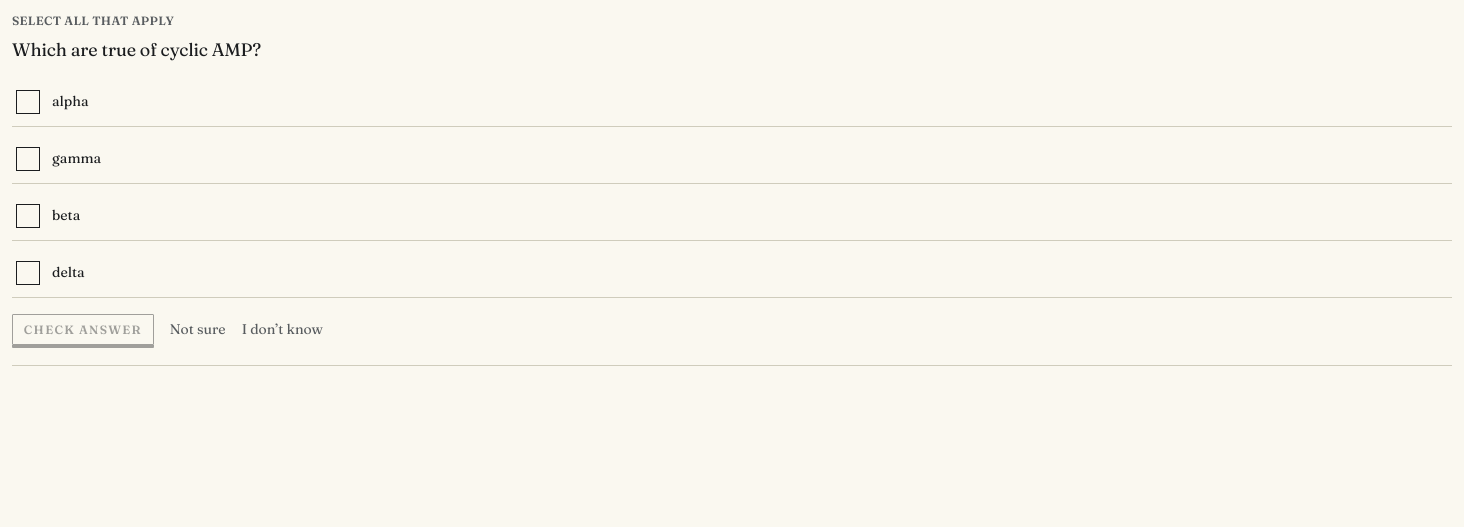
Scenario: MultiCard › counts a true statement left out as a miss, and marks it Also true with its reason
Click the checkbox "alpha". click: coordinates (70, 101)
box: [12,78,1452,127]
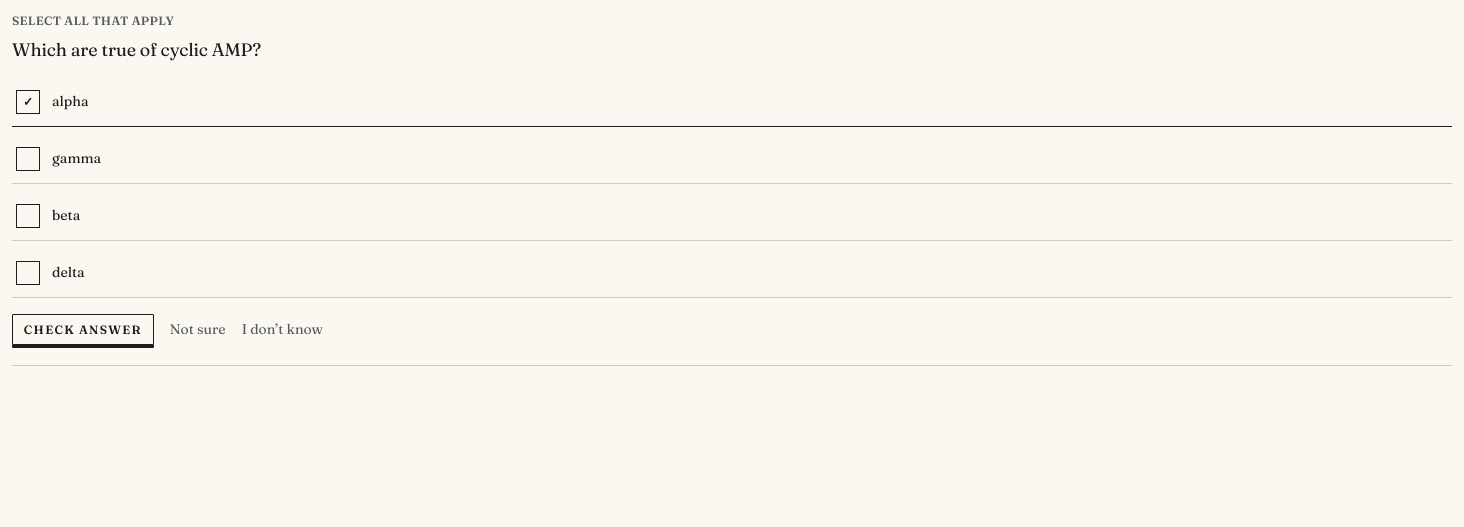
Click the button "Check answer". click: coordinates (83, 330)
box: [12,314,154,346]
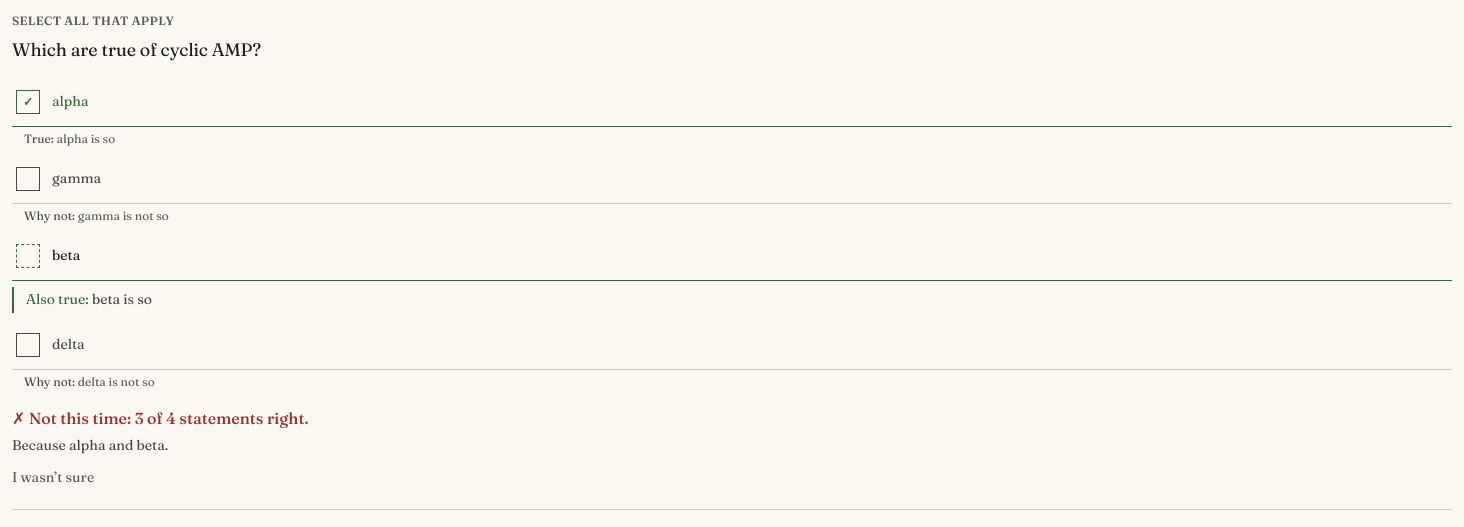
Now the text "✗ Not this time: 3 of 4 statements right." is shown, box [12,408,308,428]
Now the element showing "Also true: beta is so" is shown, box [12,287,1452,313]
Now the text "gamma is not so" reads "Why not: gamma is not so", box [24,208,169,223]
